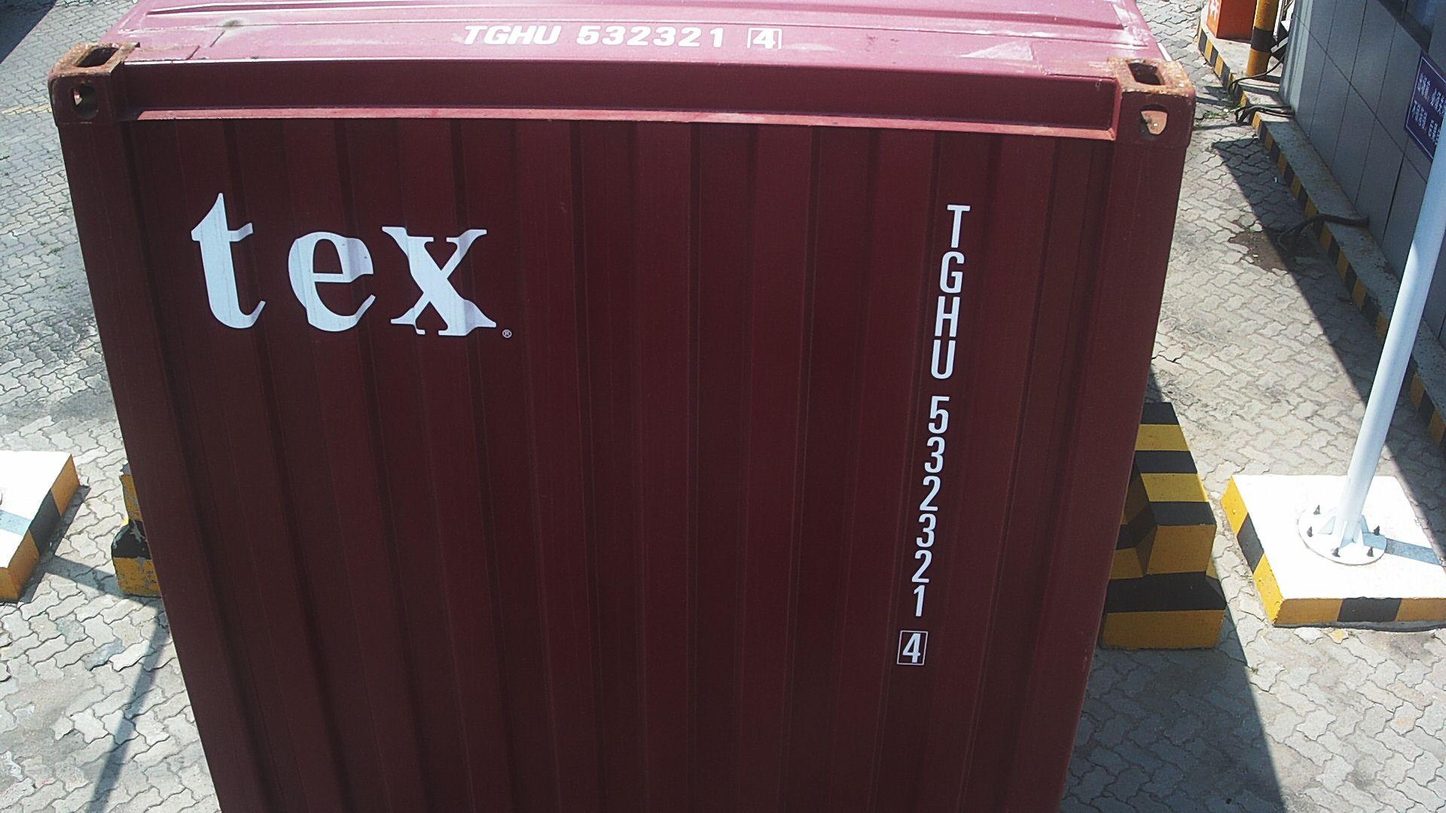container-numbers: (892, 199, 976, 671), (453, 21, 789, 52)
